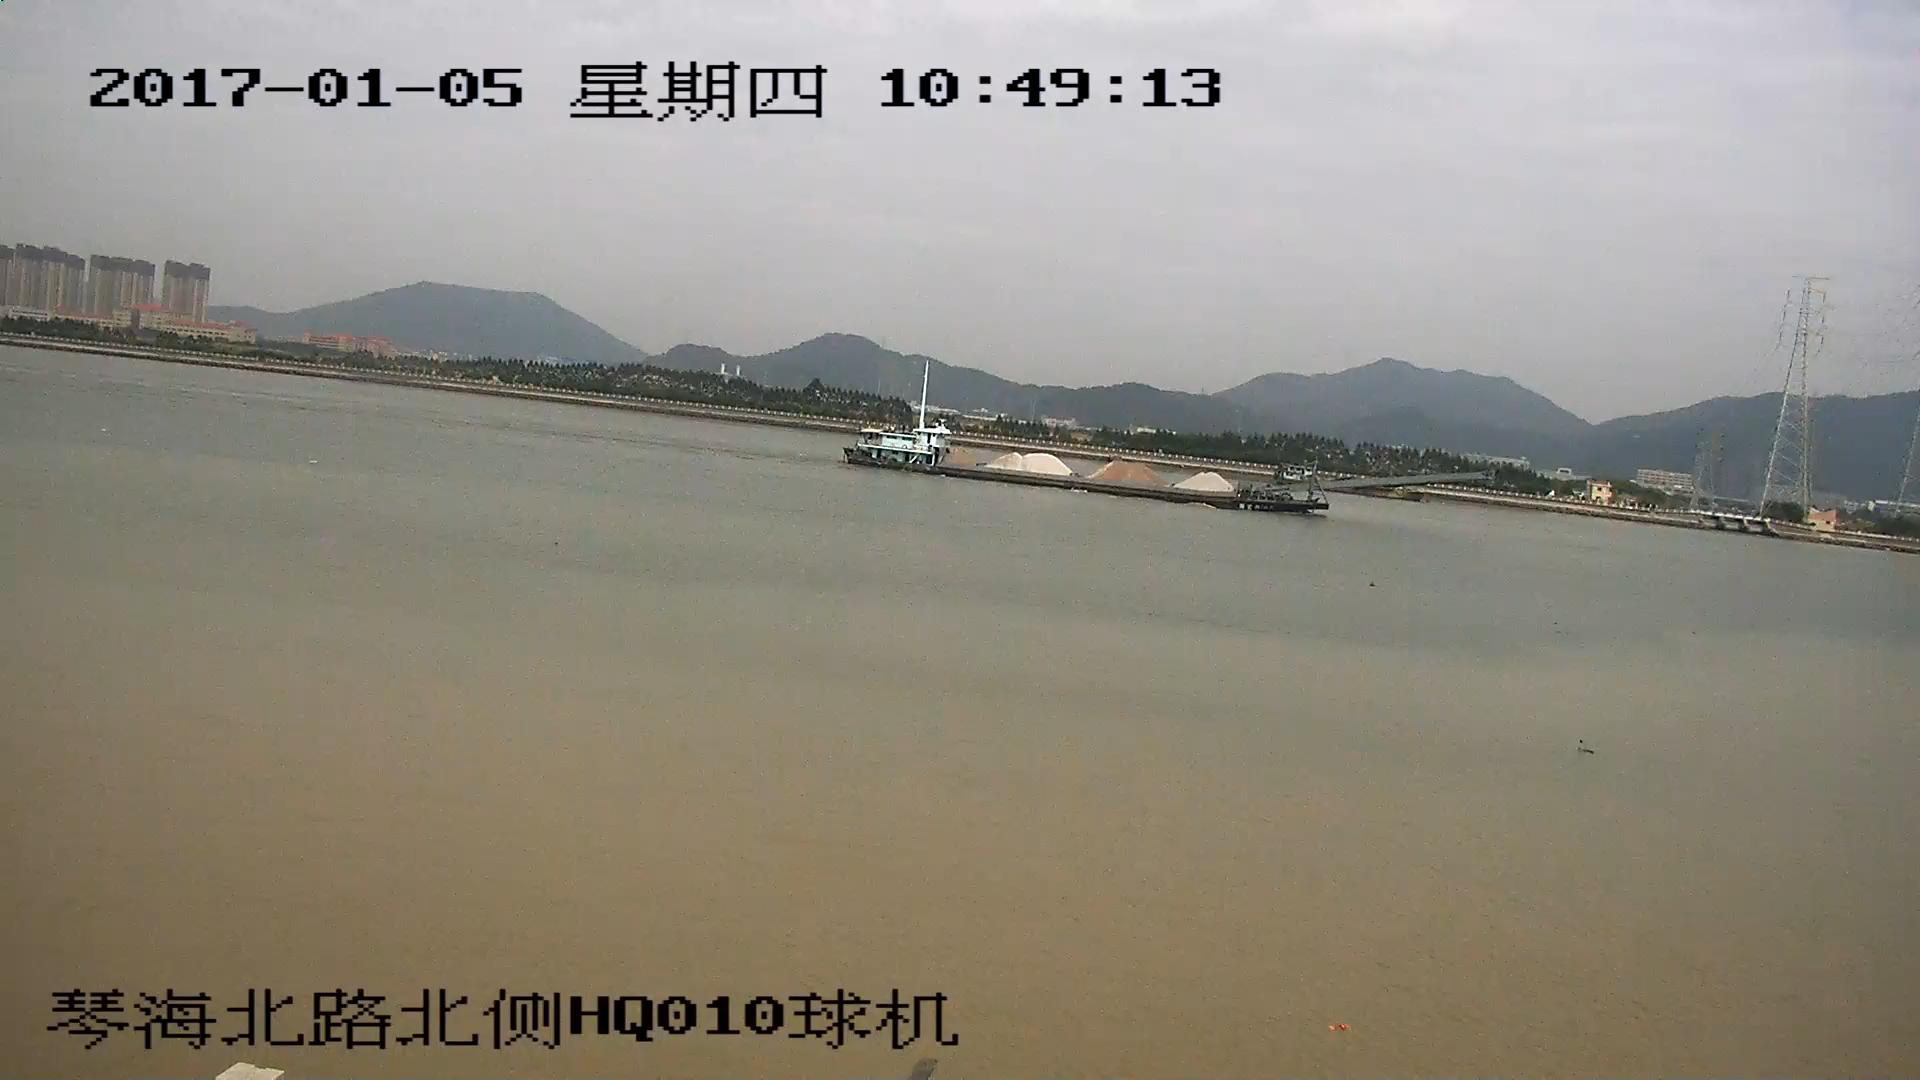ore carrier: (848, 368, 1484, 514)
